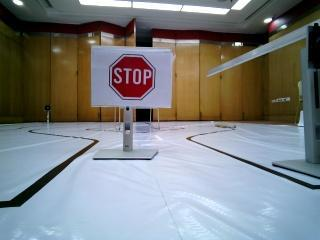stop: (102, 46, 165, 106)
